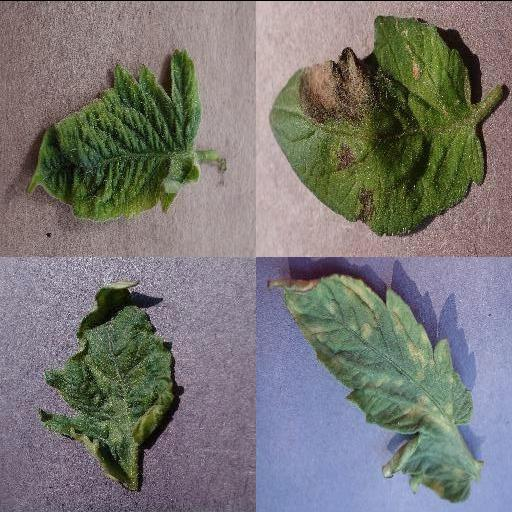Late Blight: (267, 14, 487, 234)
Leaf Mold: (264, 272, 474, 503)
Mosaic Virus: (39, 280, 175, 484)
Yellow Leaf Curl Virus: (24, 47, 204, 221)
